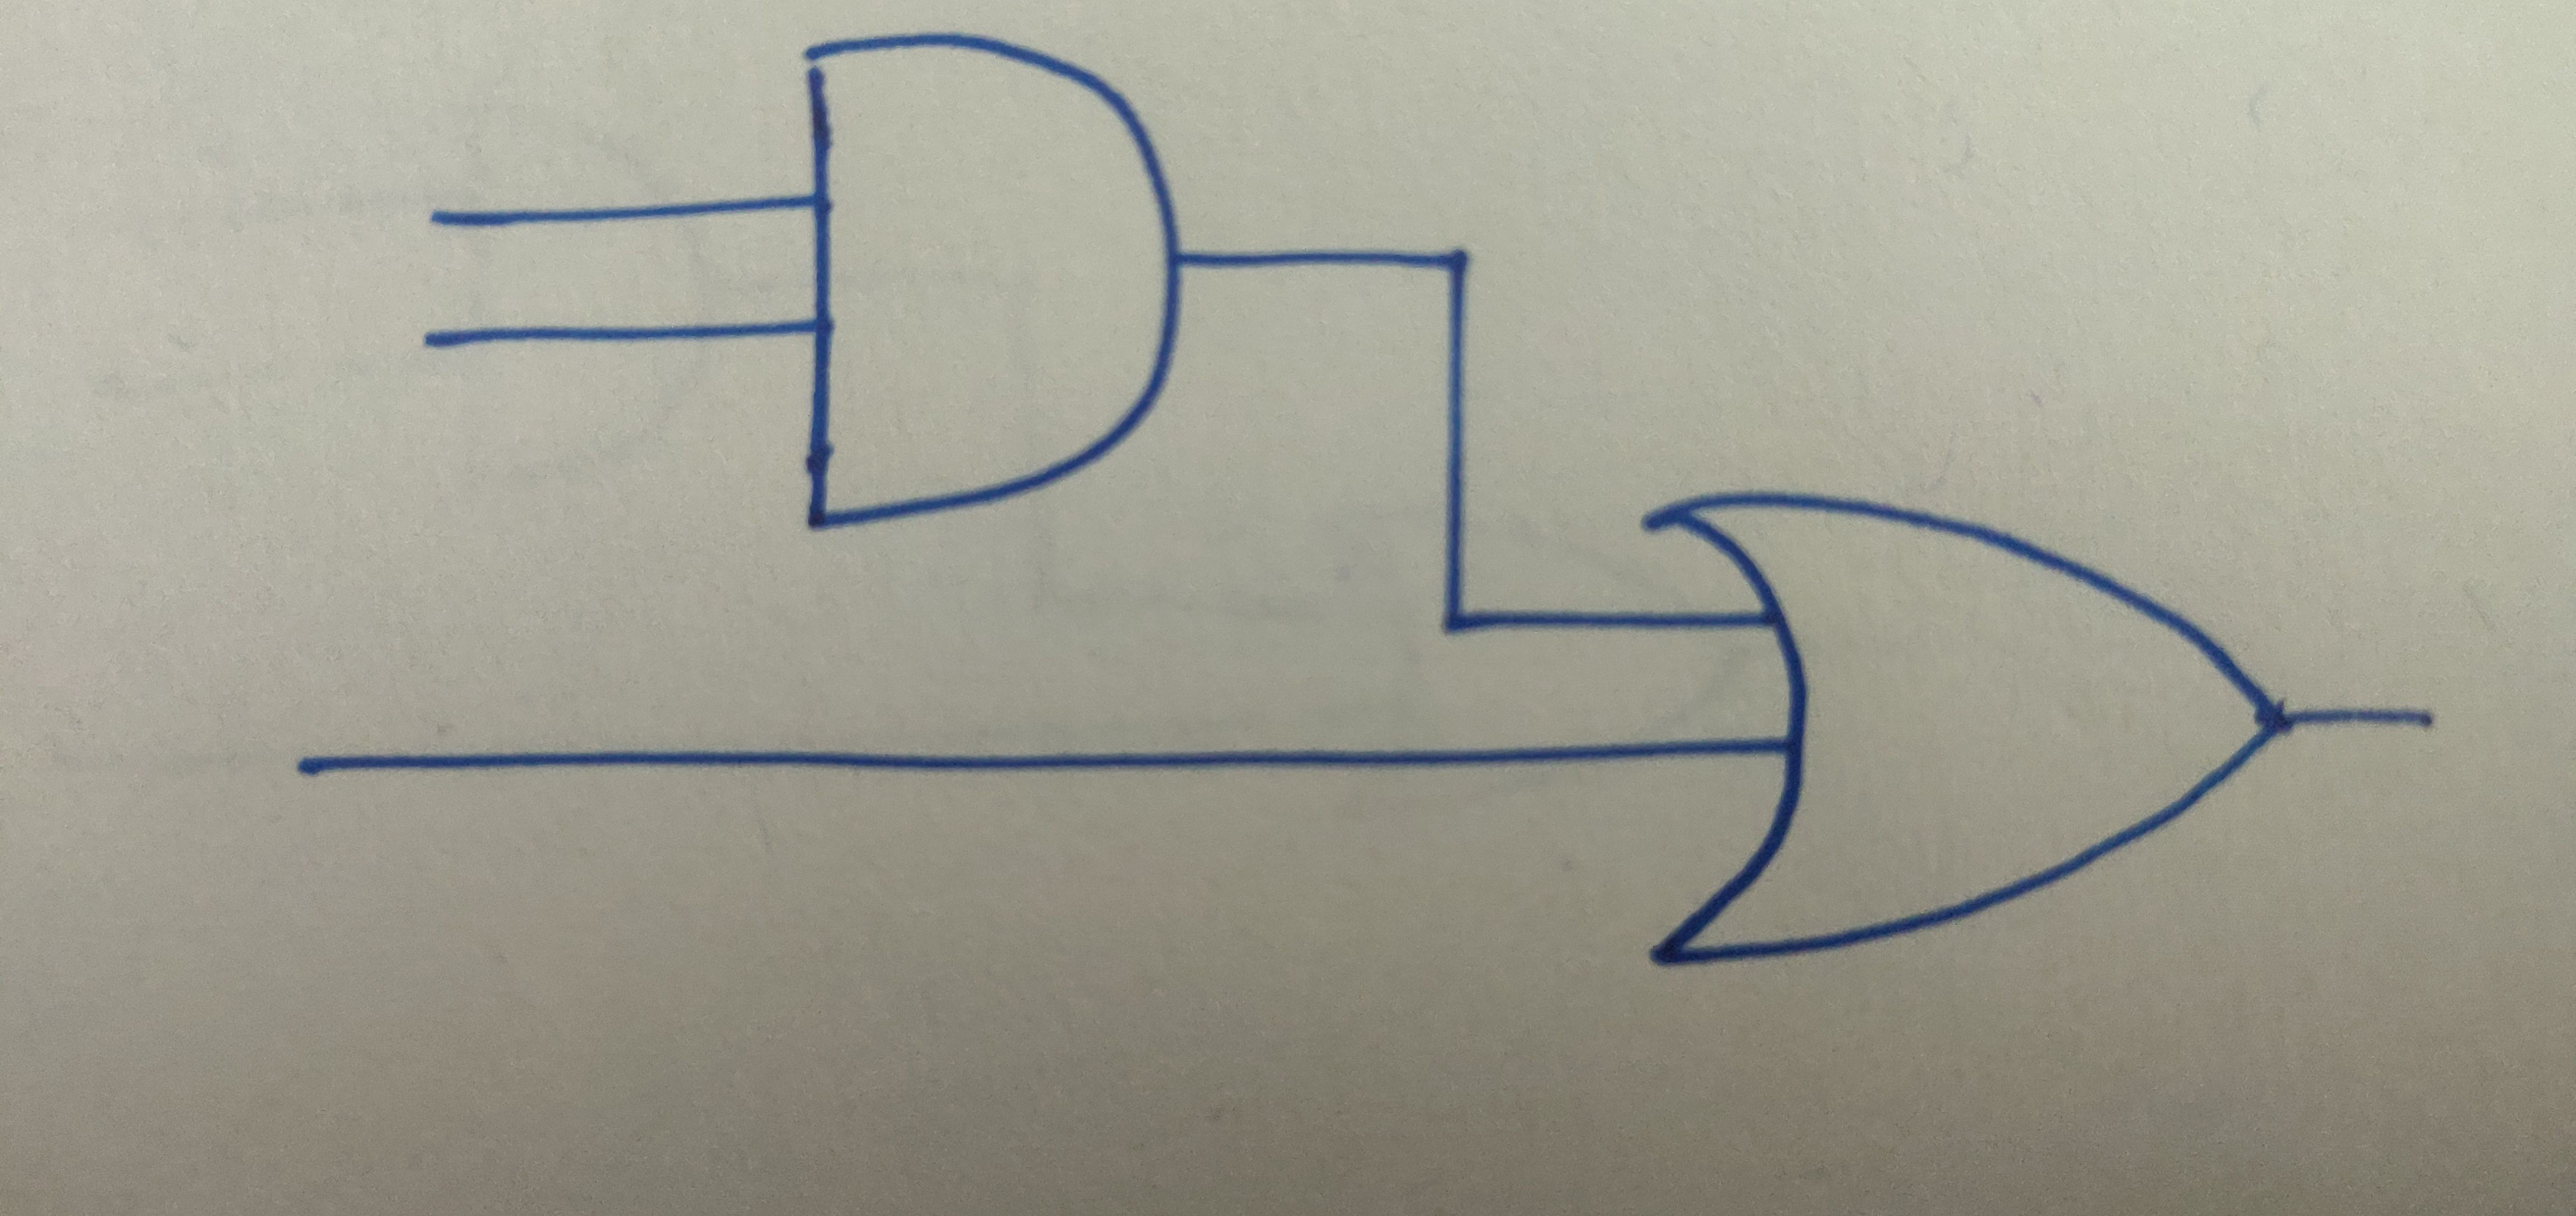and: (798, 36, 1189, 536)
or: (1640, 493, 2290, 976)
